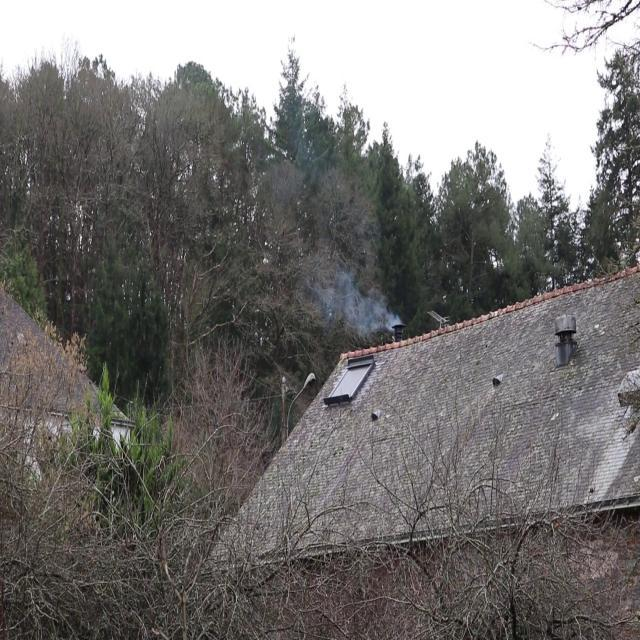Smoke: (326, 274, 402, 334)
